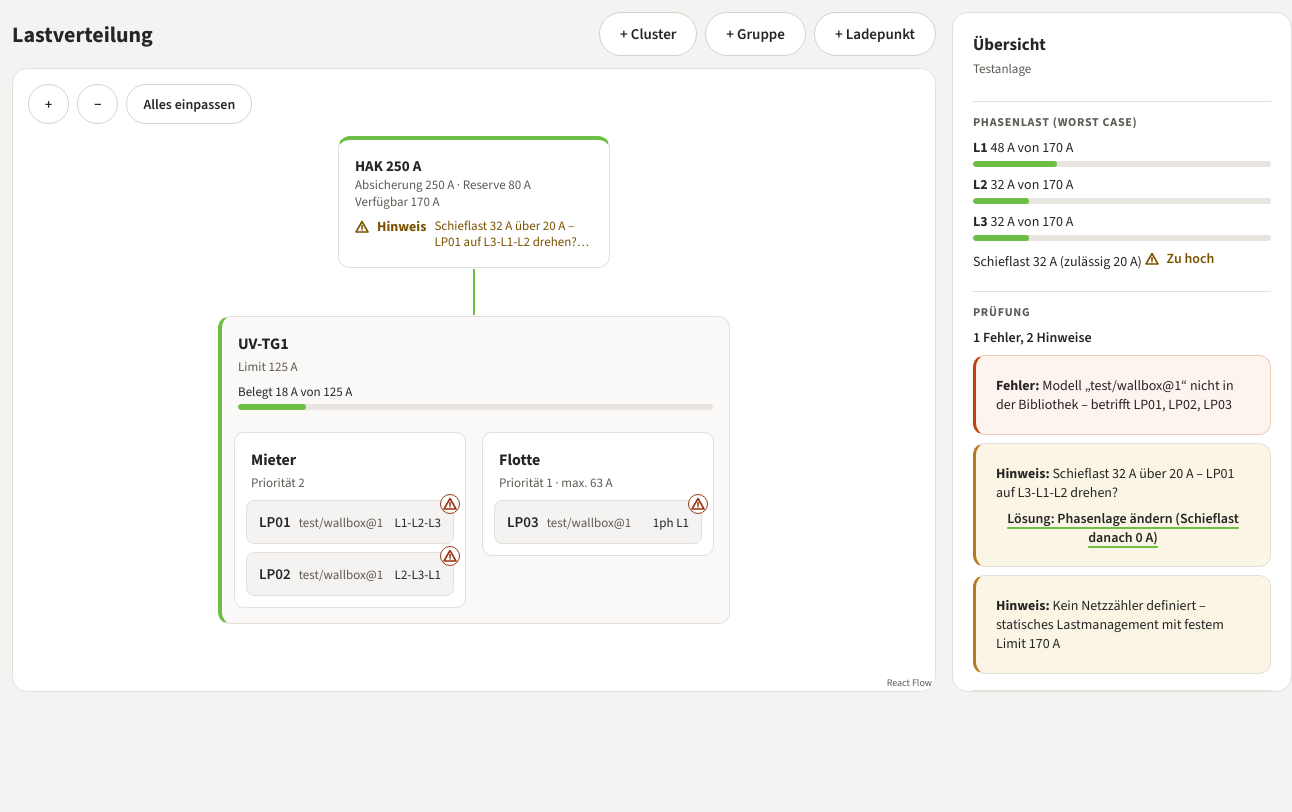
Test case: Prüfung: Sprung und Auto-Fix › Auto-Fix lässt sich abbrechen
The image size is (1292, 812).
Click the button "Lösung: Phasenlage ändern (Schieflast danach 0 A)".
click(1123, 528)  # box [996,506,1250,550]
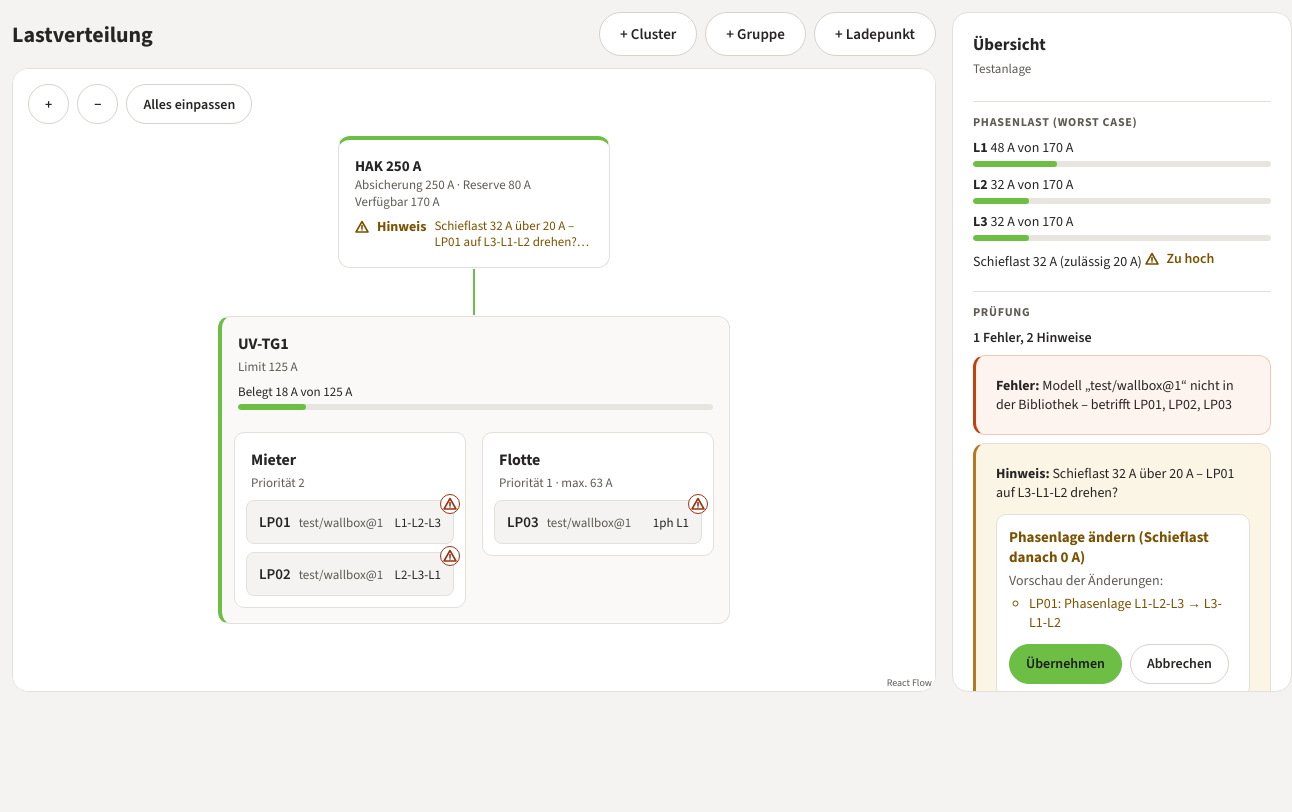
Click the button "Abbrechen".
click(1179, 664)  # box [1130,644,1229,684]
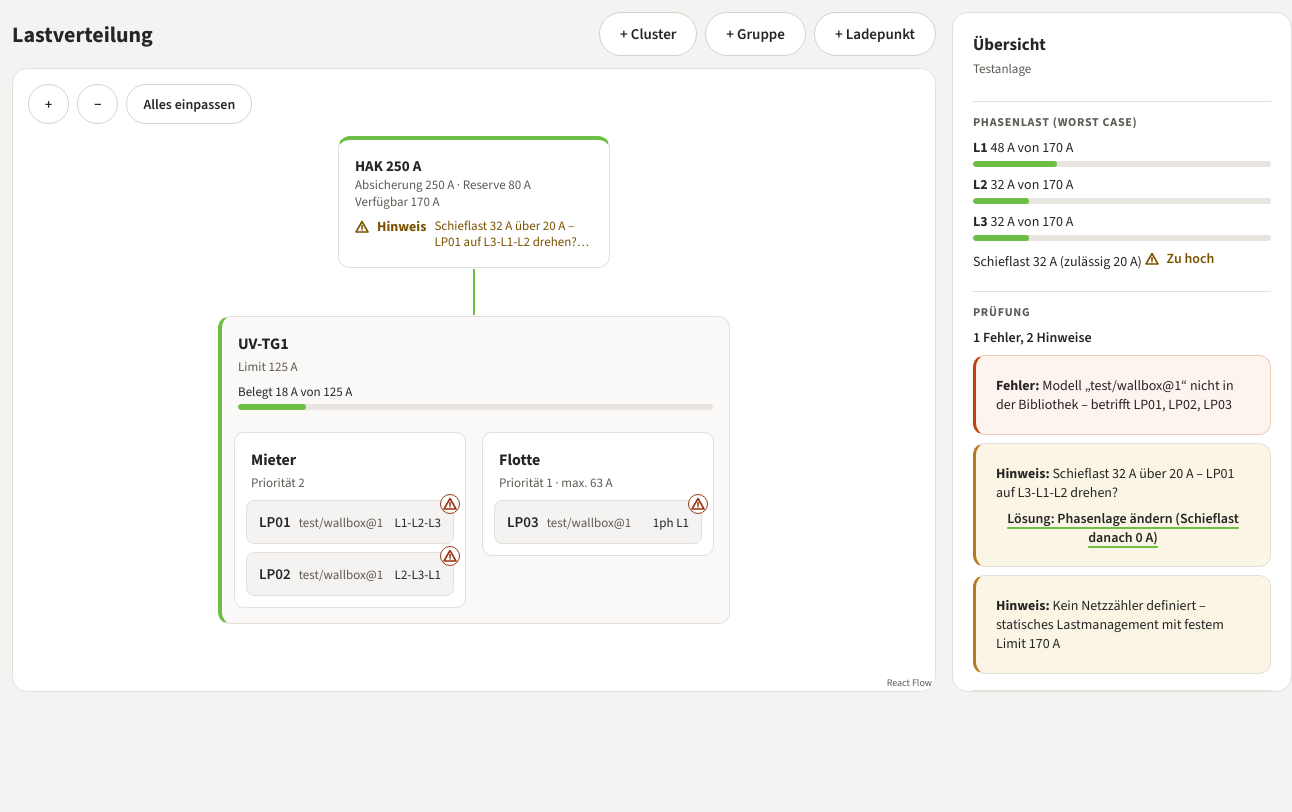
Expected: the element "Lösungsvorschlag" is gone
